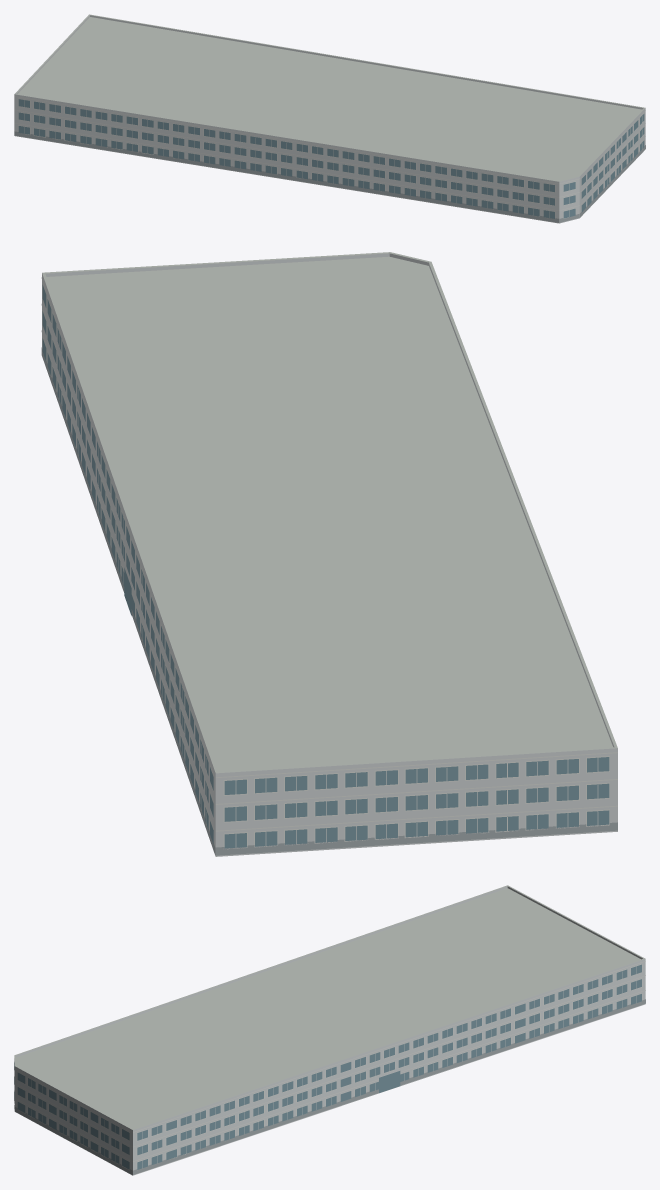
File: public-bb6eb31c-8013-4e48-9987-95ea7043fd68.glb
3 views of the same model, one above another, from view 1: azimuth 30°, elevation 25°; view 2: azimuth 150°, elevation 25°; view 3: azimuth 270°, elevation 25° (orthographic). The views are drawn at different scales.
Parts seen in each view (by area): view 1: public-bb6eb31c-8013-4e48-9987-95ea7043fd68; view 2: public-bb6eb31c-8013-4e48-9987-95ea7043fd68; view 3: public-bb6eb31c-8013-4e48-9987-95ea7043fd68.
Part boxes in pixels (left/top/right/bottom): public-bb6eb31c-8013-4e48-9987-95ea7043fd68: left=14, top=14, right=645, bottom=223; public-bb6eb31c-8013-4e48-9987-95ea7043fd68: left=41, top=252, right=617, bottom=856; public-bb6eb31c-8013-4e48-9987-95ea7043fd68: left=14, top=885, right=645, bottom=1175.
Size of the model in its own units: 105 by 9.15 by 115.
